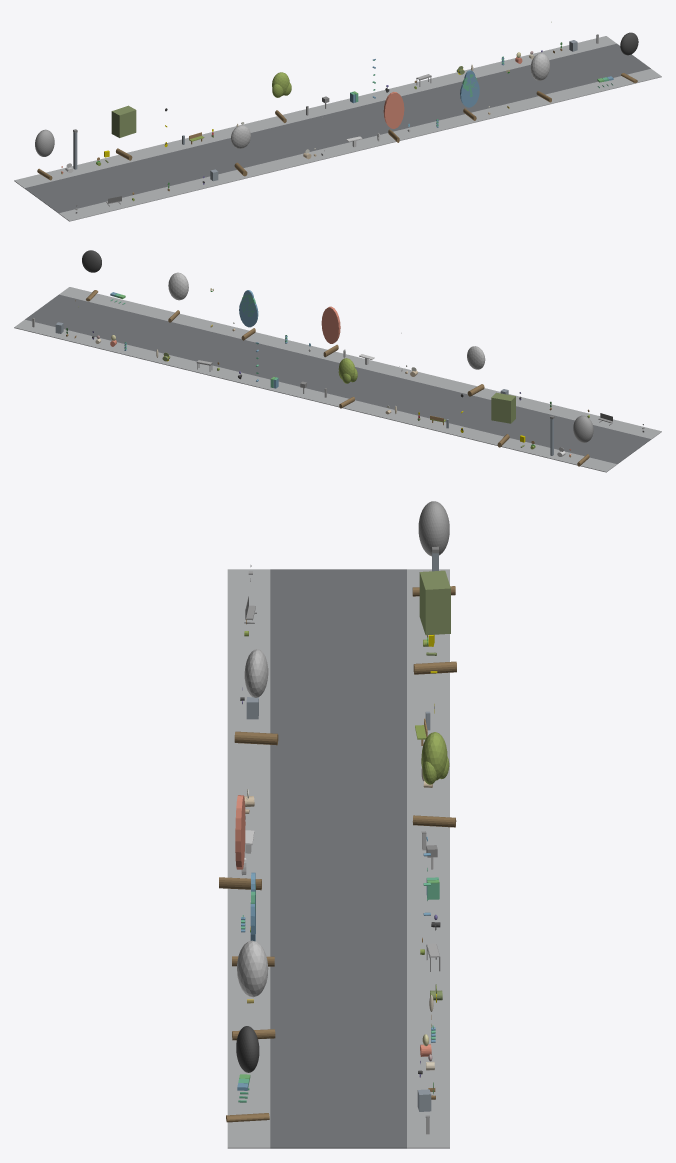
The picture shows the model from 3 angles, top to bottom: view 1: azimuth 30°, elevation 25°; view 2: azimuth 150°, elevation 25°; view 3: azimuth 270°, elevation 25°; orthographic projection. The views are drawn at different scales.
Visible parts, largest first — view 1: road_slab, sidewalk_left, sidewalk_right, inst_0019, inst_0022, inst_0023, inst_0024, inst_0018, inst_0021, inst_0020, inst_0025; view 2: road_slab, sidewalk_right, sidewalk_left, inst_0019, inst_0022, inst_0023, inst_0018, inst_0024, inst_0021, inst_0020, inst_0025; view 3: road_slab, sidewalk_right, sidewalk_left, inst_0019, inst_0024, inst_0021, inst_0018, inst_0020, inst_0025, inst_0022.
Part boxes in pixels (x1,y1,x2,y2): road_slab: (25,43,650,213); sidewalk_left: (59,69,661,221); sidewalk_right: (14,36,616,188); inst_0019: (111,105,136,160); inst_0022: (383,91,404,142); inst_0023: (460,70,479,120); inst_0024: (530,53,551,102); inst_0018: (35,129,54,180); inst_0021: (272,72,291,122); inst_0020: (231,125,250,176); inst_0025: (620,32,638,83); road_slab: (25,294,651,464); sidewalk_right: (14,319,616,472); sidewalk_left: (59,287,661,439); inst_0019: (491,392,515,447); inst_0022: (321,306,340,357); inst_0023: (239,290,258,340); inst_0018: (573,415,593,466); inst_0024: (168,272,188,322); inst_0021: (338,358,357,408); inst_0020: (467,346,485,396); inst_0025: (82,250,101,301); road_slab: (270,569,406,1148); sidewalk_right: (407,569,449,1148); sidewalk_left: (227,569,270,1148); inst_0019: (413,570,456,674); inst_0024: (232,940,275,1040); inst_0021: (412,732,456,827); inst_0018: (412,501,455,596); inst_0020: (234,649,278,745); inst_0025: (226,1026,269,1122); inst_0022: (219,795,261,890).
Size of the model in its own units: 80 by 6.08 by 13.94.
